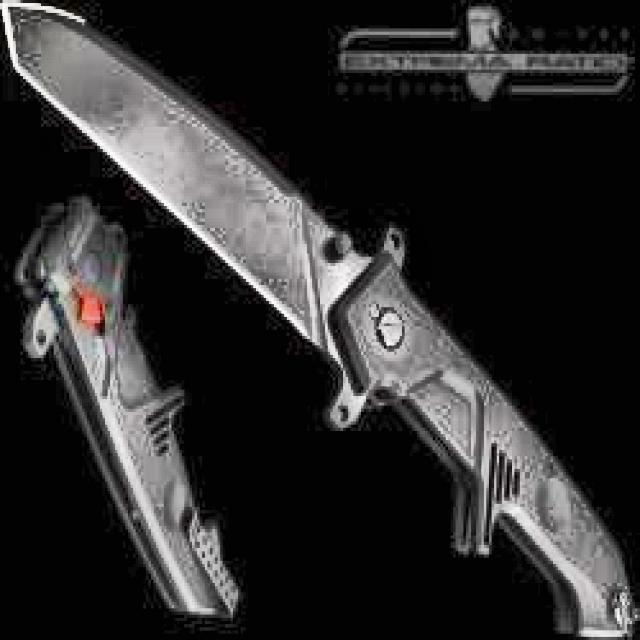knife: (2, 2, 637, 636)
